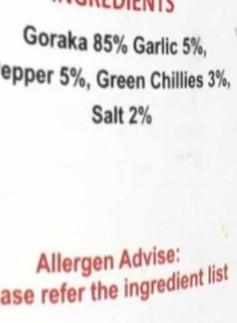ingredients: (5, 13, 237, 147)
